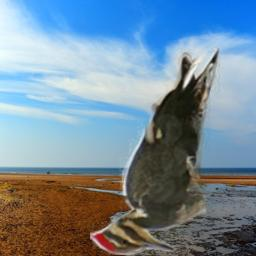Woodpecker: (90, 48, 220, 255)
